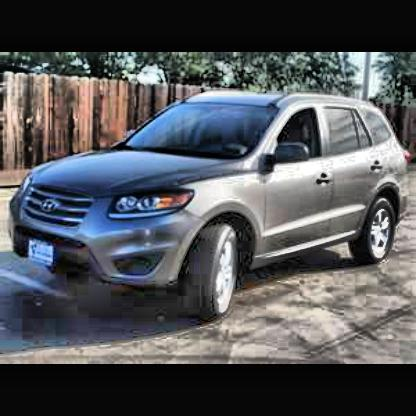Hyundai Santa Fe SUV 2012: (6, 70, 416, 345)
